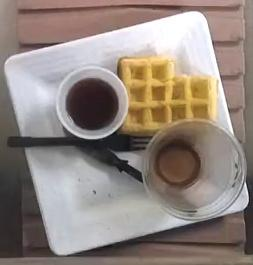waffle: (119, 57, 218, 136)
